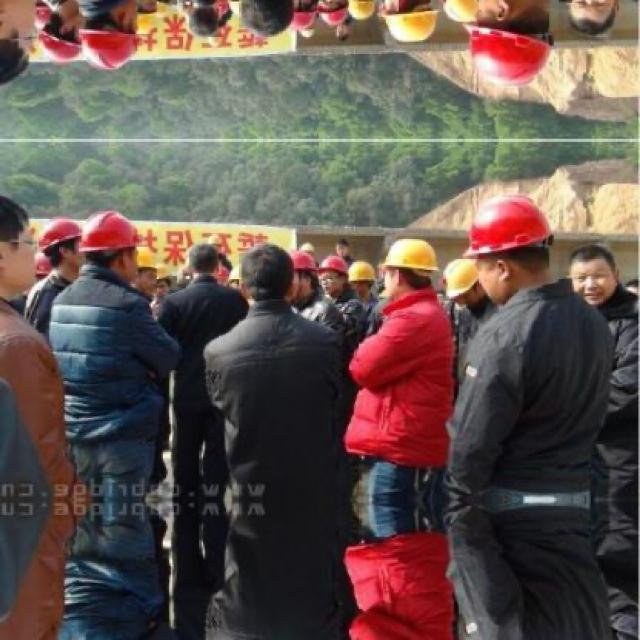helmet: (466, 191, 557, 307), (466, 0, 559, 91), (80, 206, 142, 286), (78, 0, 142, 76), (377, 236, 441, 299), (39, 0, 88, 66), (39, 216, 86, 282), (376, 0, 442, 46), (443, 259, 489, 312), (275, 248, 317, 304), (125, 246, 162, 298), (276, 0, 318, 34), (314, 254, 349, 294), (124, 0, 162, 35), (442, 0, 489, 23), (314, 0, 351, 28), (348, 262, 374, 298), (29, 248, 52, 286), (29, 0, 54, 34), (148, 262, 170, 295), (348, 0, 375, 20), (148, 0, 172, 20)
